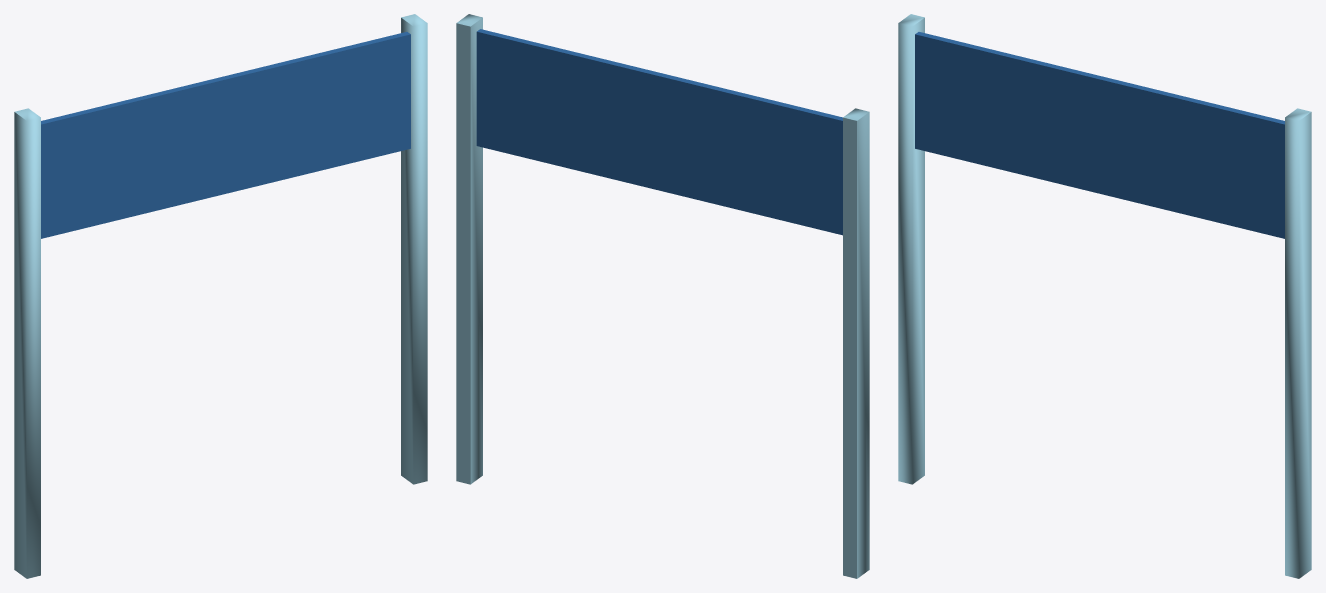
File: Piller.fbx
3 views of the same model, side by side, from view 1: azimuth 30°, elevation 25°; view 2: azimuth 150°, elevation 25°; view 3: azimuth 330°, elevation 25° (orthographic).
Visible parts, largest first — view 1: Piller; view 2: Piller; view 3: Piller.
Part boxes in pixels (left/top/right/bottom): Piller: left=14, top=14, right=427, bottom=578; Piller: left=456, top=14, right=869, bottom=578; Piller: left=898, top=14, right=1311, bottom=578.
Size of the model in its own units: 3.02 by 3.3 by 0.1637.
